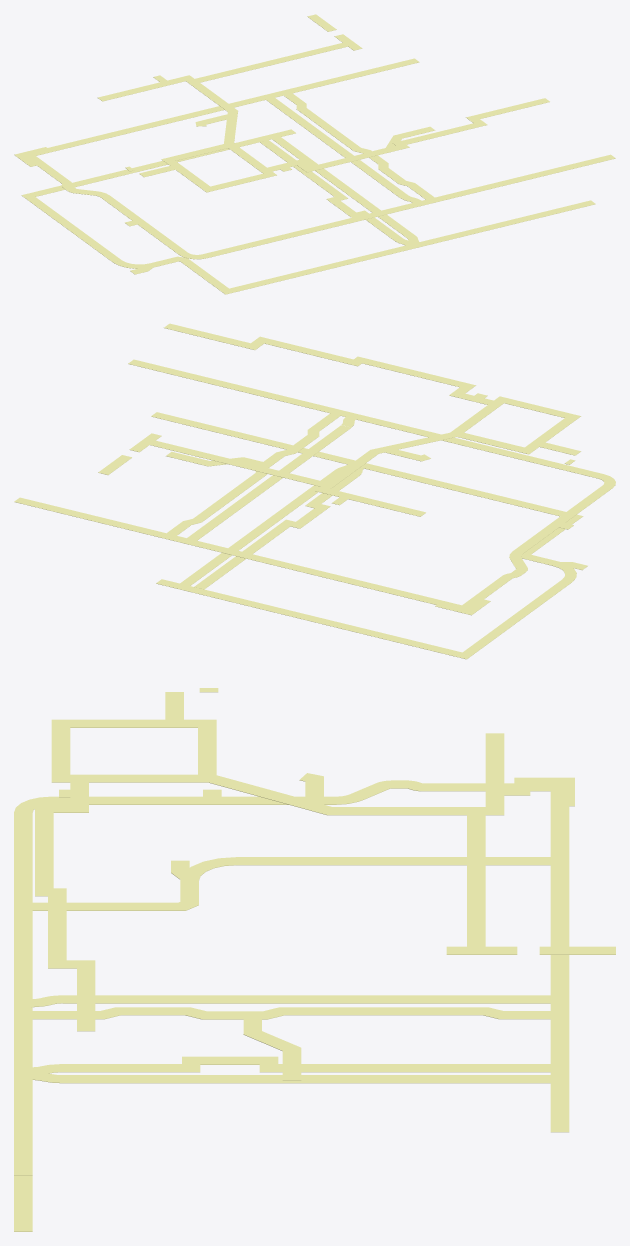
Rendered from HULDRA-HA-ESCAPEROUTE-SECTION.gltf.
3 renders of one model, top to bottom at view 1: azimuth 30°, elevation 25°; view 2: azimuth 150°, elevation 25°; view 3: azimuth 270°, elevation 25°, orthographic. The views are drawn at different scales.
Visible parts, largest first — view 1: BOX_25_of_SUBSTRUCTURE_/ESCAPE-MEZZ/FLOOR_Mesh.1969, BOX_27_of_SUBSTRUCTURE_/ESCAPE-CELLAR/FLOOR_Mesh.1950, BOX_21_of_SUBSTRUCTURE_/ESCAPE-CELLAR/FLOOR_Mesh.1940, BOX_24_of_SUBSTRUCTURE_/ESCAPE-MEZZ/FLOOR_Mesh.1968, BOX_1_of_SUBSTRUCTURE_/ESCAPE-MEZZ/FLOOR_Mesh.1951, BOX_8_of_SUBSTRUCTURE_/ESCAPE-MEZZ/FLOOR_Mesh.1956, BOX_9_of_SUBSTRUCTURE_/ESCAPE-CELLAR/FLOOR_Mesh.1932, BOX_19_of_SUBSTRUCTURE_/ESCAPE-CELLAR/FLOOR_Mesh.1939, BOX_1_of_SUBSTRUCTURE_/ESCAPE-WEATH/FLOOR_Mesh.1985, BOX_14_of_SUBSTRUCTURE_/ESCAPE-MEZZ/FLOOR_Mesh.1957, BOX_1_of_SUBSTRUCTURE_/ESCAPE-CELLAR/FLOOR_Mesh.1929, BOX_22_of_SUBSTRUCTURE_/ESCAPE-CELLAR/FLOOR_Mesh.1941 (+11 smaller); view 2: BOX_25_of_SUBSTRUCTURE_/ESCAPE-MEZZ/FLOOR_Mesh.1969, BOX_27_of_SUBSTRUCTURE_/ESCAPE-CELLAR/FLOOR_Mesh.1950, BOX_1_of_SUBSTRUCTURE_/ESCAPE-MEZZ/FLOOR_Mesh.1951, BOX_1_of_SUBSTRUCTURE_/ESCAPE-CELLAR/FLOOR_Mesh.1929, BOX_21_of_SUBSTRUCTURE_/ESCAPE-CELLAR/FLOOR_Mesh.1940, BOX_24_of_SUBSTRUCTURE_/ESCAPE-MEZZ/FLOOR_Mesh.1968, BOX_8_of_SUBSTRUCTURE_/ESCAPE-MEZZ/FLOOR_Mesh.1956, BOX_9_of_SUBSTRUCTURE_/ESCAPE-CELLAR/FLOOR_Mesh.1932, BOX_1_of_SUBSTRUCTURE_/ESCAPE-WEATH/FLOOR_Mesh.1985, BOX_14_of_SUBSTRUCTURE_/ESCAPE-MEZZ/FLOOR_Mesh.1957, BOX_19_of_SUBSTRUCTURE_/ESCAPE-CELLAR/FLOOR_Mesh.1939, BOX_22_of_SUBSTRUCTURE_/ESCAPE-CELLAR/FLOOR_Mesh.1941 (+12 smaller); view 3: BOX_27_of_SUBSTRUCTURE_/ESCAPE-CELLAR/FLOOR_Mesh.1950, BOX_25_of_SUBSTRUCTURE_/ESCAPE-MEZZ/FLOOR_Mesh.1969, BOX_1_of_SUBSTRUCTURE_/ESCAPE-MEZZ/FLOOR_Mesh.1951, BOX_24_of_SUBSTRUCTURE_/ESCAPE-MEZZ/FLOOR_Mesh.1968, BOX_8_of_SUBSTRUCTURE_/ESCAPE-MEZZ/FLOOR_Mesh.1956, BOX_9_of_SUBSTRUCTURE_/ESCAPE-CELLAR/FLOOR_Mesh.1932, BOX_22_of_SUBSTRUCTURE_/ESCAPE-CELLAR/FLOOR_Mesh.1941, BOX_1_of_SUBSTRUCTURE_/ESCAPE-WEATH/FLOOR_Mesh.1985, BOX_4_of_SUBSTRUCTURE_/ESCAPE-MEZZ/FLOOR_Mesh.1954, BOX_14_of_SUBSTRUCTURE_/ESCAPE-MEZZ/FLOOR_Mesh.1957, BOX_27_of_SUBSTRUCTURE_/ESCAPE-MEZZ/FLOOR_Mesh.1973, BOX_34_of_SUBSTRUCTURE_/ESCAPE-WEATH/FLOOR_Mesh.1995 (+17 smaller).
Boxes of the visible parts, x1,y1,x2,y2 form: BOX_25_of_SUBSTRUCTURE_/ESCAPE-MEZZ/FLOOR_Mesh.1969: (266,97,408,197); BOX_27_of_SUBSTRUCTURE_/ESCAPE-CELLAR/FLOOR_Mesh.1950: (272,137,415,237); BOX_21_of_SUBSTRUCTURE_/ESCAPE-CELLAR/FLOOR_Mesh.1940: (271,235,452,282); BOX_24_of_SUBSTRUCTURE_/ESCAPE-MEZZ/FLOOR_Mesh.1968: (271,194,452,241); BOX_1_of_SUBSTRUCTURE_/ESCAPE-MEZZ/FLOOR_Mesh.1951: (123,86,304,133); BOX_8_of_SUBSTRUCTURE_/ESCAPE-MEZZ/FLOOR_Mesh.1956: (448,154,615,198); BOX_9_of_SUBSTRUCTURE_/ESCAPE-CELLAR/FLOOR_Mesh.1932: (21,193,121,262); BOX_19_of_SUBSTRUCTURE_/ESCAPE-CELLAR/FLOOR_Mesh.1939: (448,200,595,238); BOX_1_of_SUBSTRUCTURE_/ESCAPE-WEATH/FLOOR_Mesh.1985: (186,47,328,82); BOX_14_of_SUBSTRUCTURE_/ESCAPE-MEZZ/FLOOR_Mesh.1957: (101,195,187,254); BOX_1_of_SUBSTRUCTURE_/ESCAPE-CELLAR/FLOOR_Mesh.1929: (123,129,295,174); BOX_22_of_SUBSTRUCTURE_/ESCAPE-CELLAR/FLOOR_Mesh.1941: (260,140,347,200); BOX_25_of_SUBSTRUCTURE_/ESCAPE-MEZZ/FLOOR_Mesh.1969: (187,425,351,540); BOX_27_of_SUBSTRUCTURE_/ESCAPE-CELLAR/FLOOR_Mesh.1950: (180,470,340,585); BOX_1_of_SUBSTRUCTURE_/ESCAPE-MEZZ/FLOOR_Mesh.1951: (146,529,355,583); BOX_1_of_SUBSTRUCTURE_/ESCAPE-CELLAR/FLOOR_Mesh.1929: (156,579,355,630); BOX_21_of_SUBSTRUCTURE_/ESCAPE-CELLAR/FLOOR_Mesh.1940: (316,452,525,506); BOX_24_of_SUBSTRUCTURE_/ESCAPE-MEZZ/FLOOR_Mesh.1968: (316,405,525,459); BOX_8_of_SUBSTRUCTURE_/ESCAPE-MEZZ/FLOOR_Mesh.1956: (128,359,320,409); BOX_9_of_SUBSTRUCTURE_/ESCAPE-CELLAR/FLOOR_Mesh.1932: (457,579,571,659); BOX_1_of_SUBSTRUCTURE_/ESCAPE-WEATH/FLOOR_Mesh.1985: (172,446,335,488); BOX_14_of_SUBSTRUCTURE_/ESCAPE-MEZZ/FLOOR_Mesh.1957: (512,485,612,553); BOX_19_of_SUBSTRUCTURE_/ESCAPE-CELLAR/FLOOR_Mesh.1939: (151,412,321,456); BOX_22_of_SUBSTRUCTURE_/ESCAPE-CELLAR/FLOOR_Mesh.1941: (194,519,295,589); BOX_27_of_SUBSTRUCTURE_/ESCAPE-CELLAR/FLOOR_Mesh.1950: (60,1075,550,1083); BOX_25_of_SUBSTRUCTURE_/ESCAPE-MEZZ/FLOOR_Mesh.1969: (62,995,550,1003); BOX_1_of_SUBSTRUCTURE_/ESCAPE-MEZZ/FLOOR_Mesh.1951: (550,873,569,1030); BOX_24_of_SUBSTRUCTURE_/ESCAPE-MEZZ/FLOOR_Mesh.1968: (14,873,32,1030); BOX_8_of_SUBSTRUCTURE_/ESCAPE-MEZZ/FLOOR_Mesh.1956: (14,1030,32,1175); BOX_9_of_SUBSTRUCTURE_/ESCAPE-CELLAR/FLOOR_Mesh.1932: (236,857,550,865); BOX_22_of_SUBSTRUCTURE_/ESCAPE-CELLAR/FLOOR_Mesh.1941: (259,1064,550,1072); BOX_1_of_SUBSTRUCTURE_/ESCAPE-WEATH/FLOOR_Mesh.1985: (467,807,485,928); BOX_4_of_SUBSTRUCTURE_/ESCAPE-MEZZ/FLOOR_Mesh.1954: (550,1030,569,1132); BOX_14_of_SUBSTRUCTURE_/ESCAPE-MEZZ/FLOOR_Mesh.1957: (51,796,336,804); BOX_27_of_SUBSTRUCTURE_/ESCAPE-MEZZ/FLOOR_Mesh.1973: (280,1007,487,1015); BOX_34_of_SUBSTRUCTURE_/ESCAPE-WEATH/FLOOR_Mesh.1995: (35,804,53,896).
Size of the model in its own units: 50.48 by 10.42 by 32.33.
